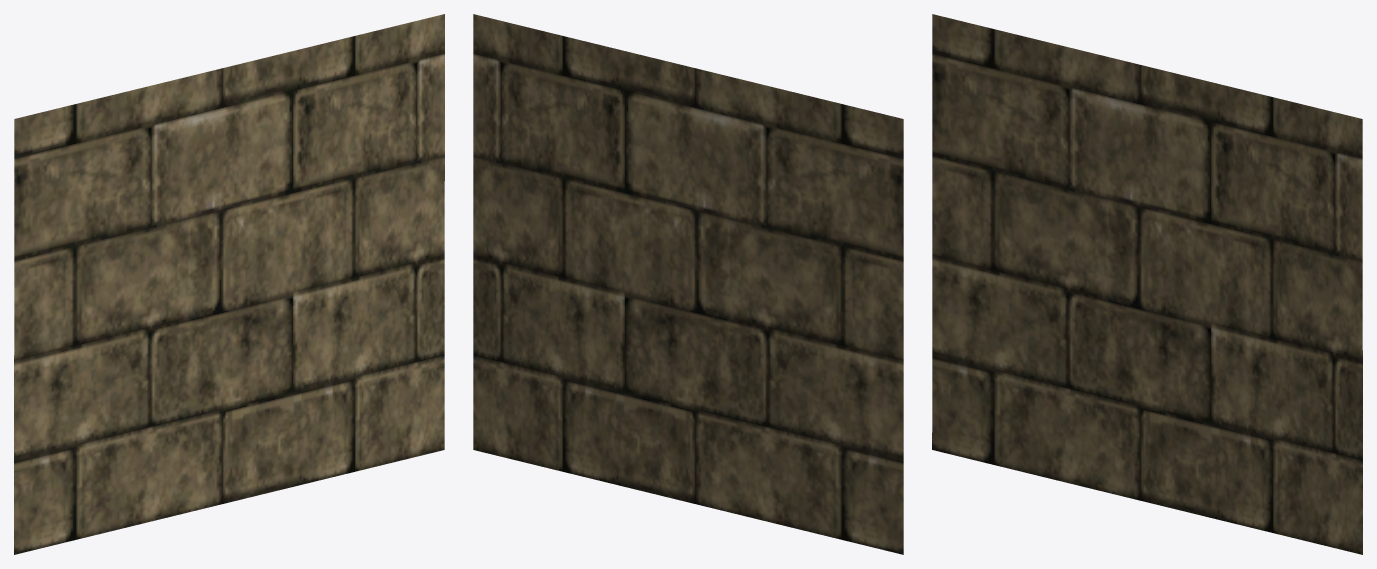
The model's file is OVERHILL_A_01_OBJECT203.fbx.
3 views of the same model, side by side, from view 1: azimuth 30°, elevation 25°; view 2: azimuth 150°, elevation 25°; view 3: azimuth 330°, elevation 25° (orthographic).
Parts seen in each view (by area): view 1: OVERHILL_A_01_OBJECT203; view 2: OVERHILL_A_01_OBJECT203; view 3: OVERHILL_A_01_OBJECT203.
Part boxes in pixels (left/top/right/bottom): OVERHILL_A_01_OBJECT203: left=14, top=14, right=444, bottom=554; OVERHILL_A_01_OBJECT203: left=473, top=14, right=903, bottom=554; OVERHILL_A_01_OBJECT203: left=932, top=14, right=1362, bottom=554.
Bounding box in the file's own units: 36360 × 35168 × 3.27.
1 material, 1 textured.
